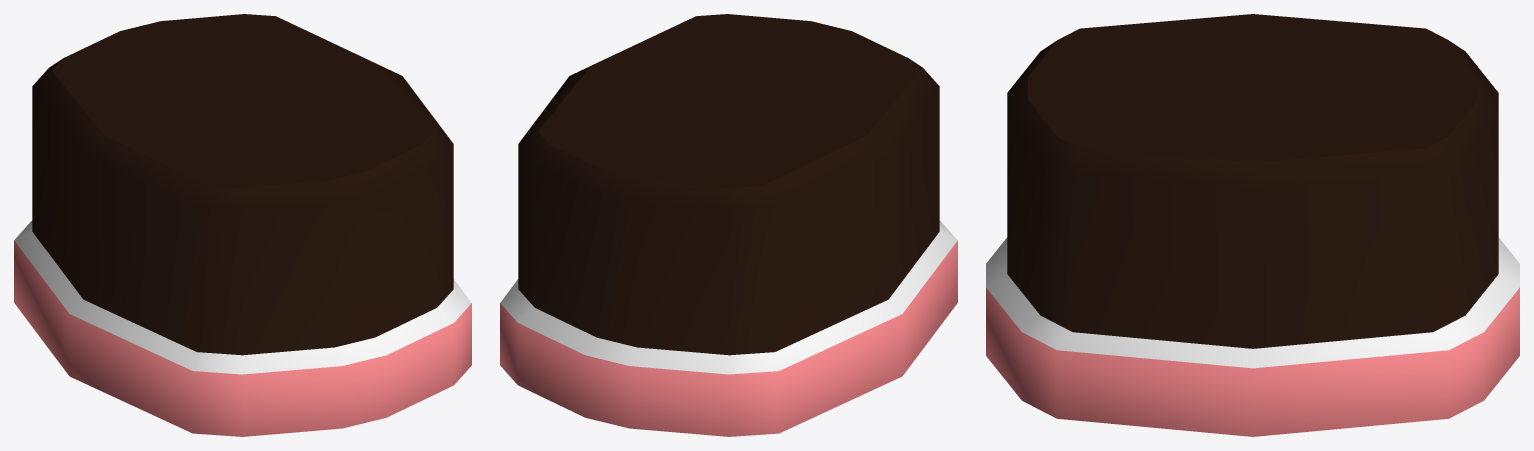
The model's file is Choco1-2.fbx.
3 views of the same model, side by side, from view 1: azimuth 30°, elevation 25°; view 2: azimuth 150°, elevation 25°; view 3: azimuth 270°, elevation 25° (orthographic). The views are drawn at different scales.
Parts seen in each view (by area): view 1: Choco1-2; view 2: Choco1-2; view 3: Choco1-2.
Part boxes in pixels (x1,y1,x2,y2): Choco1-2: (14,14,471,436); Choco1-2: (500,14,957,436); Choco1-2: (986,14,1519,436).
Size of the model in its own units: 7.96 by 5.14 by 9.66.
